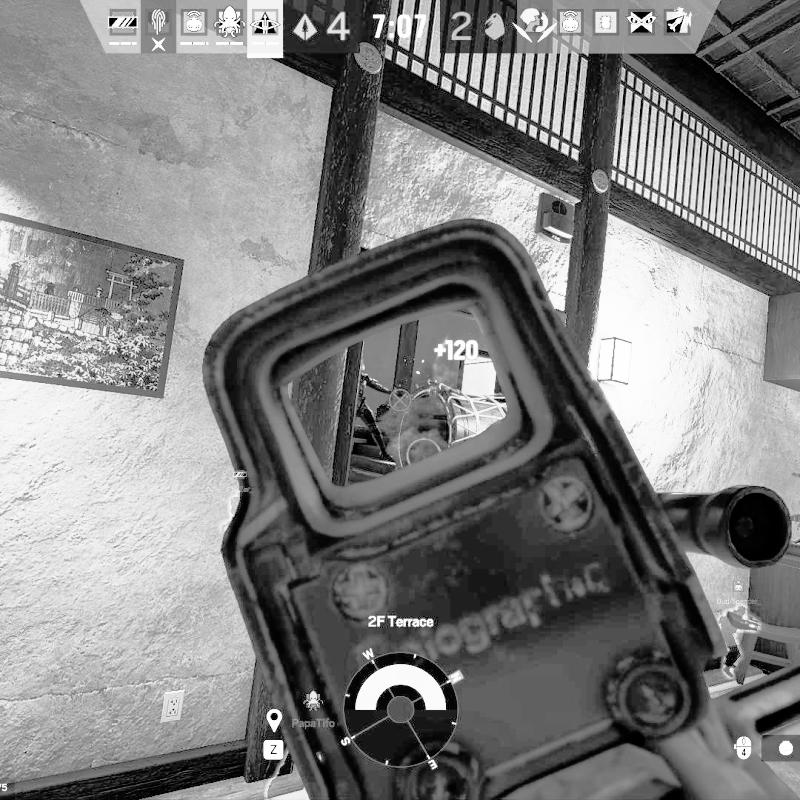Character: (355, 364, 410, 465)
Friend_label: (287, 692, 339, 733), (715, 578, 762, 606), (227, 467, 254, 496)
